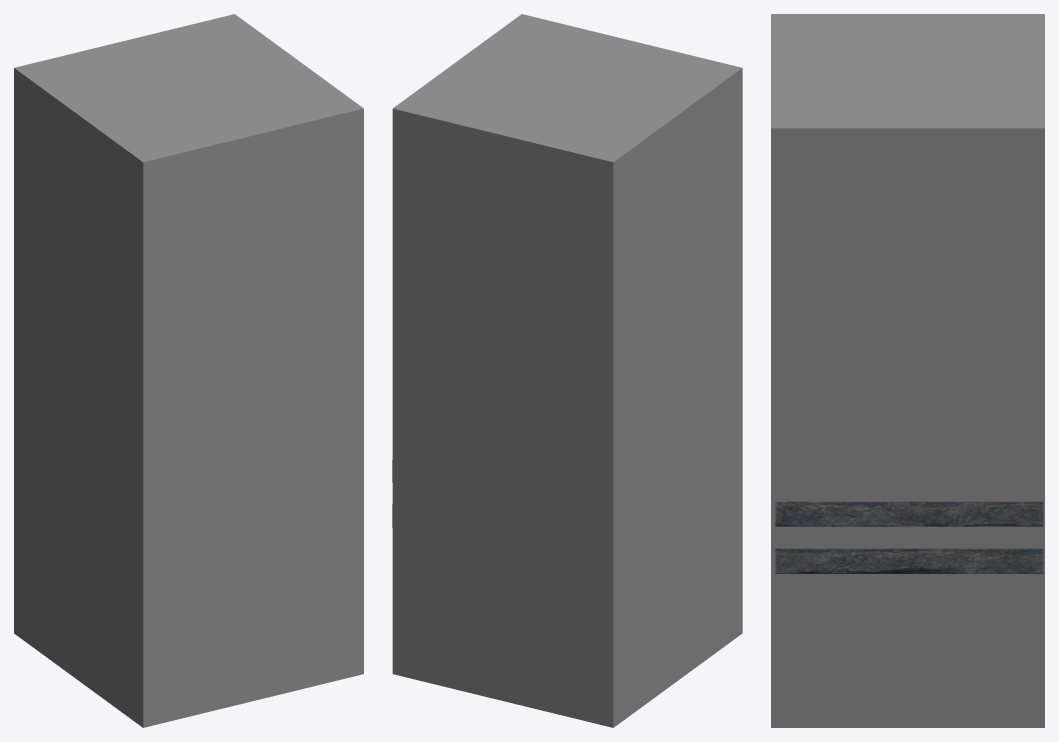
File: Scene_Object_ShiDun_1.FBX
3 views of the same model, side by side, from view 1: azimuth 30°, elevation 25°; view 2: azimuth 150°, elevation 25°; view 3: azimuth 270°, elevation 25° (orthographic). The views are drawn at different scales.
Parts seen in each view (by area): view 1: Scene_Object_ShiDun_1_Xzm; view 2: Scene_Object_ShiDun_1_Xzm; view 3: Scene_Object_ShiDun_1_Xzm, Scene_Object_ShiDun_1_b.
Part boxes in pixels (x1=…): Scene_Object_ShiDun_1_Xzm: x1=14, y1=14, x2=363, y2=727; Scene_Object_ShiDun_1_Xzm: x1=392, y1=14, x2=742, y2=727; Scene_Object_ShiDun_1_Xzm: x1=771, y1=14, x2=1044, y2=727; Scene_Object_ShiDun_1_b: x1=775, y1=501, x2=1043, y2=573.
Bounding box in the file's own units: 156 × 381 × 157.
